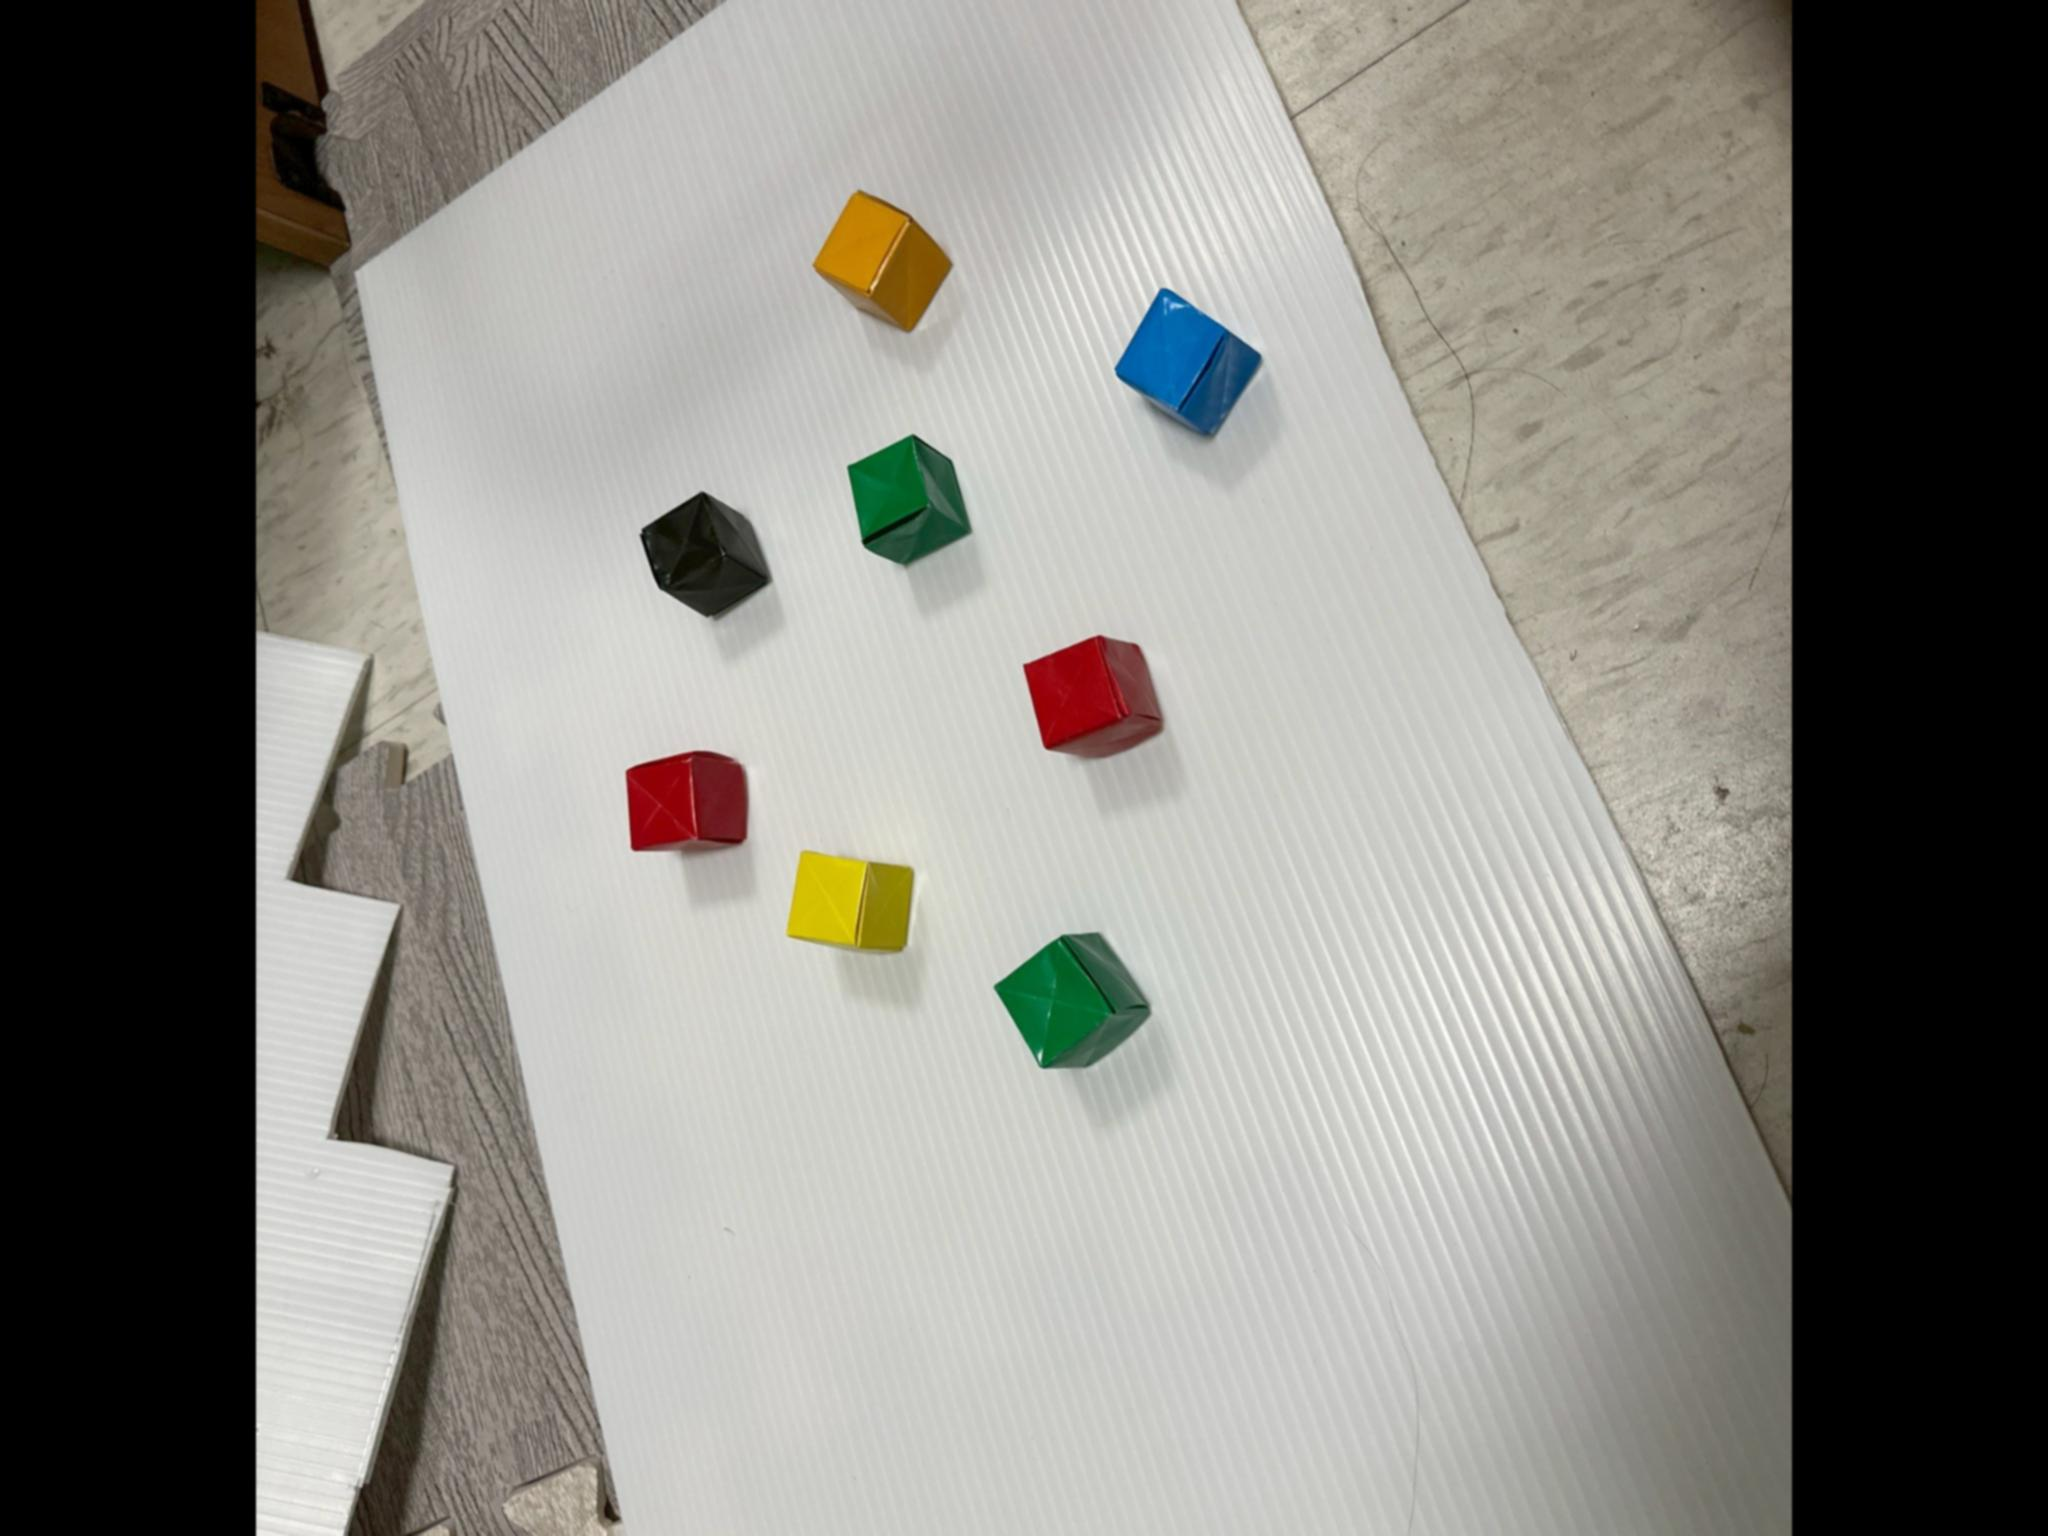base: (995, 931, 1150, 1068), (1116, 289, 1261, 432), (814, 190, 950, 329), (1024, 636, 1163, 757), (640, 490, 769, 615), (848, 436, 969, 563), (789, 850, 913, 950), (626, 750, 747, 852)
